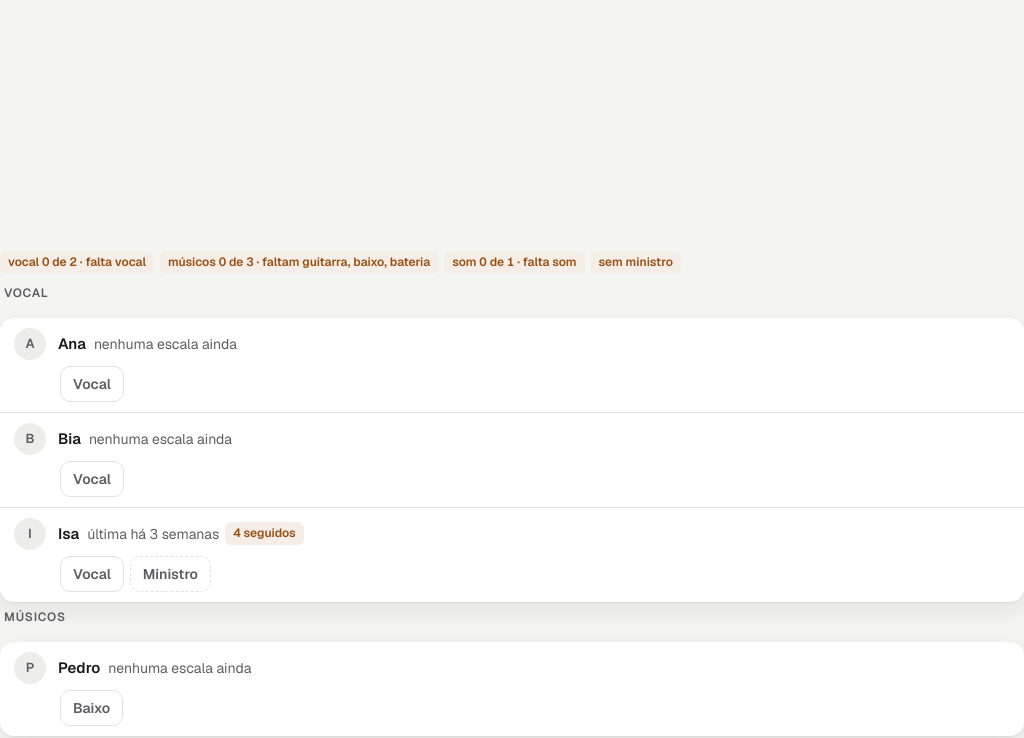
Test: resumo da Equipe › recalcula a cada toque
This screenshot has width=1024, height=738.
Check: the text "vocal 0 de 2 · falta vocal" is shown, box top-left (0, 251), bottom-right (154, 274)
Click the 1st button "Vocal".
click(92, 384)  # box top-left (60, 366), bottom-right (124, 402)
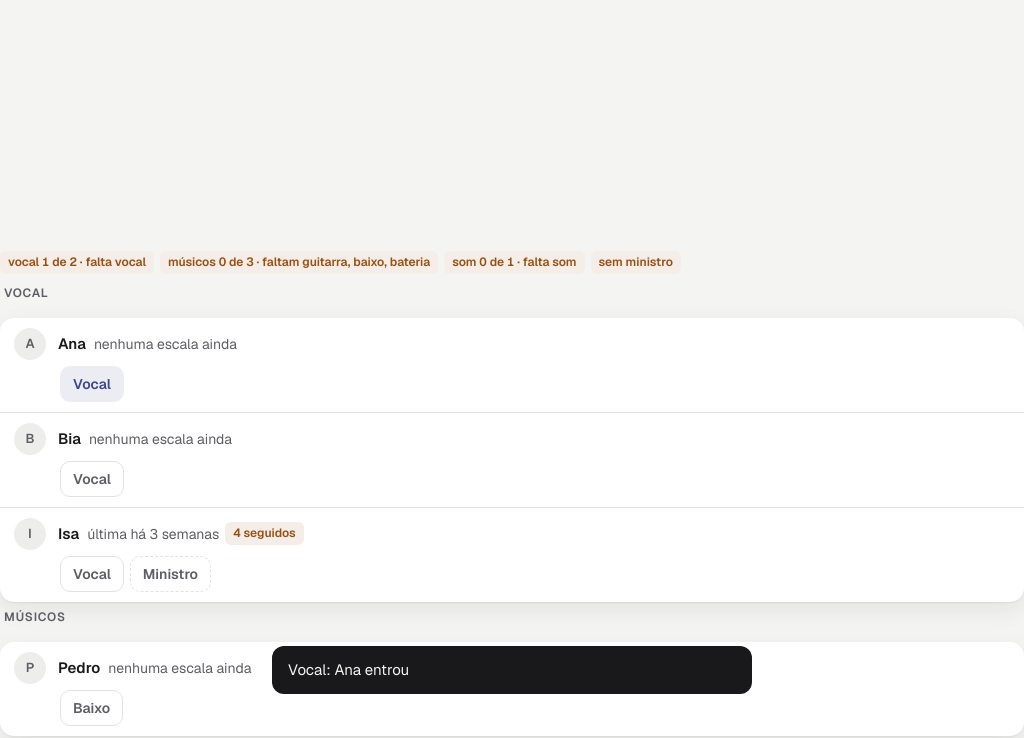
Check: the text "vocal 1 de 2 · falta vocal" is shown, box top-left (0, 251), bottom-right (154, 274)
Click the button "Vocal" below "Bia".
click(92, 479)  # box top-left (60, 461), bottom-right (124, 497)
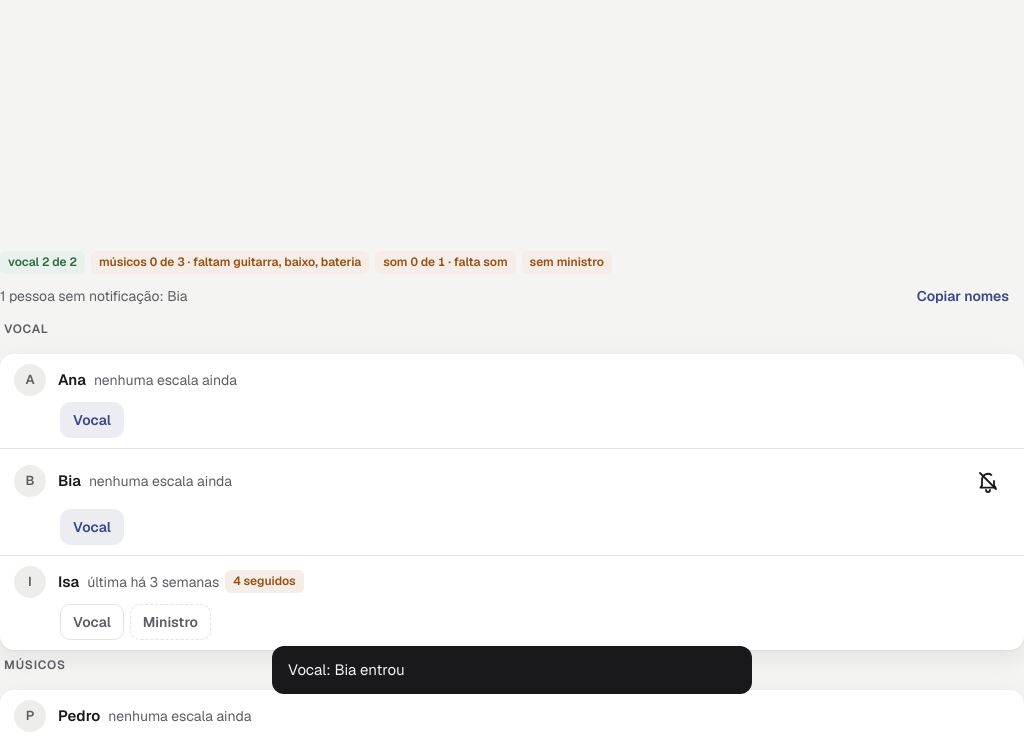
Check: the text "vocal 2 de 2" is shown, box top-left (0, 251), bottom-right (85, 274)
